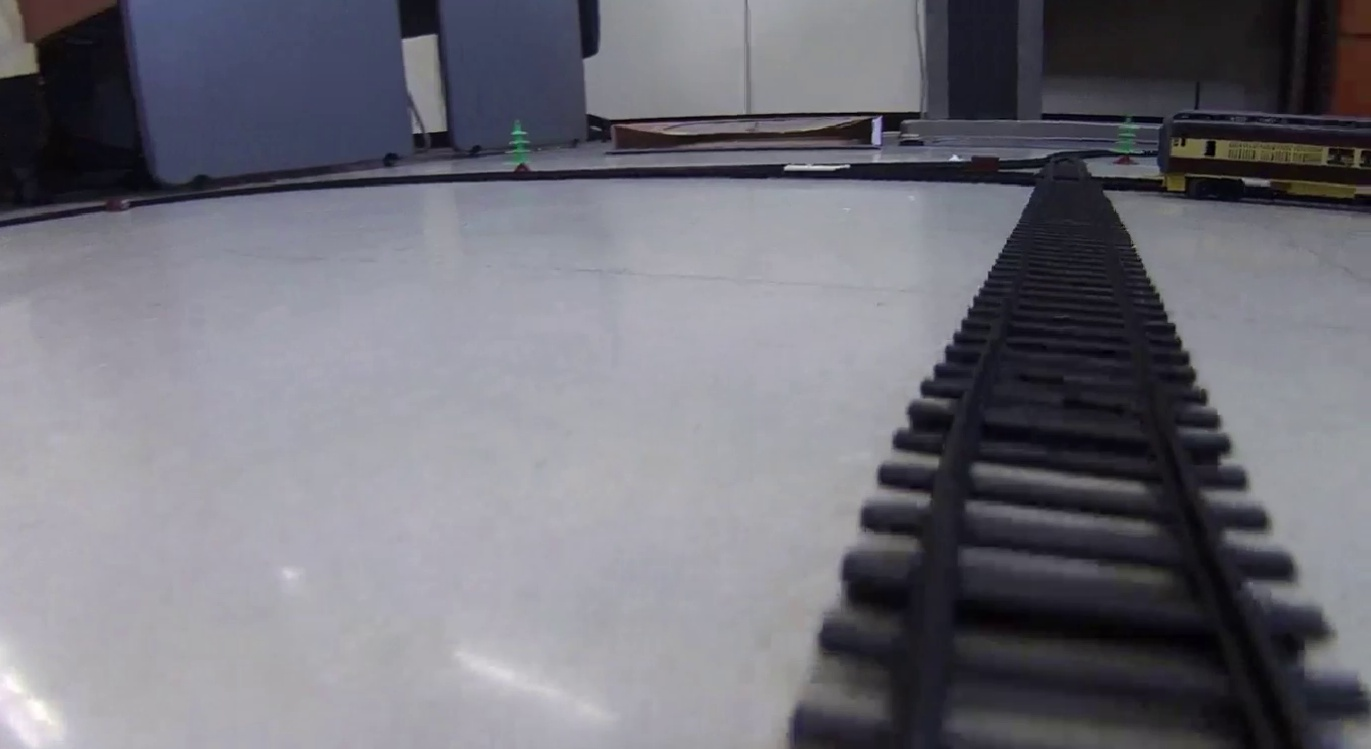tree: (505, 122, 539, 173)
